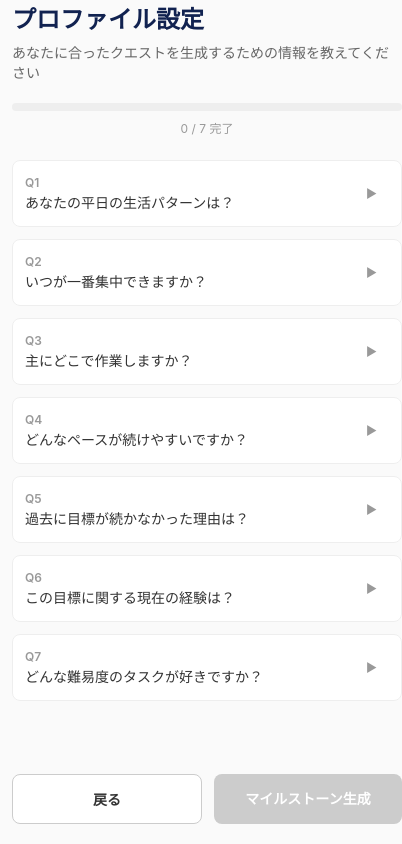
Test: ProfileStep 統合テスト › 質問の展開と折りたたみ › 質問をタップすると選択肢が表示されること
# 最初の質問をタップ
Click the element labelled "あなたの平日の生活パターンは？" at (201, 193), box [25,175,377,211]
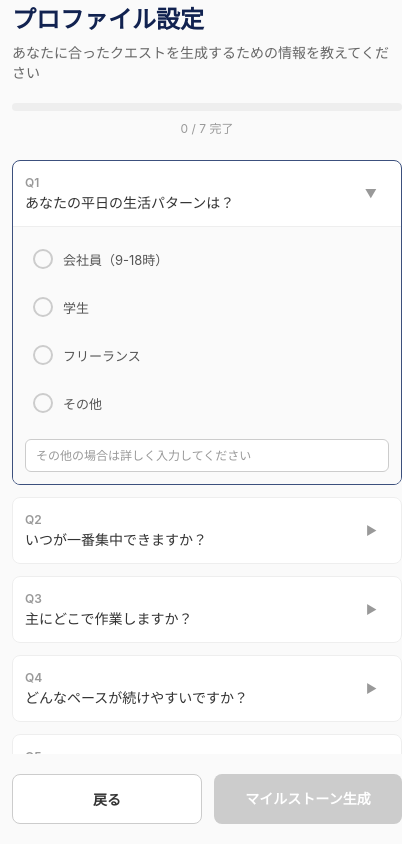
Expected: the element labelled "会社員（9-18時）" is shown, [33,249,168,269]
Expected: the element labelled "学生" is shown, [33,297,89,317]
Expected: the element labelled "フリーランス" is shown, [33,345,141,365]
